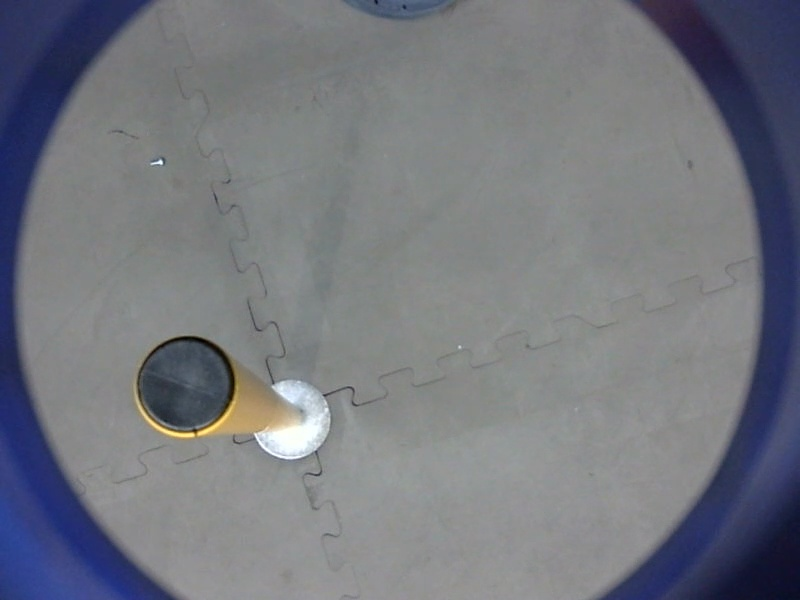tip: (125, 329, 244, 443)
